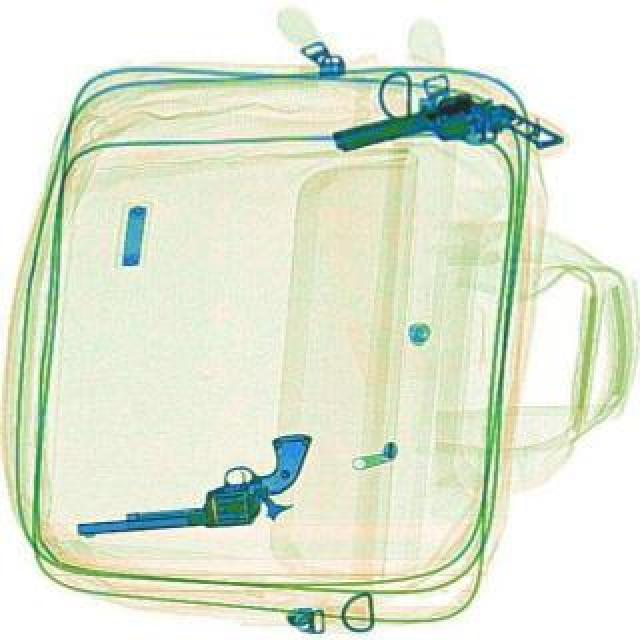gun: (334, 78, 568, 194), (76, 432, 320, 534)
